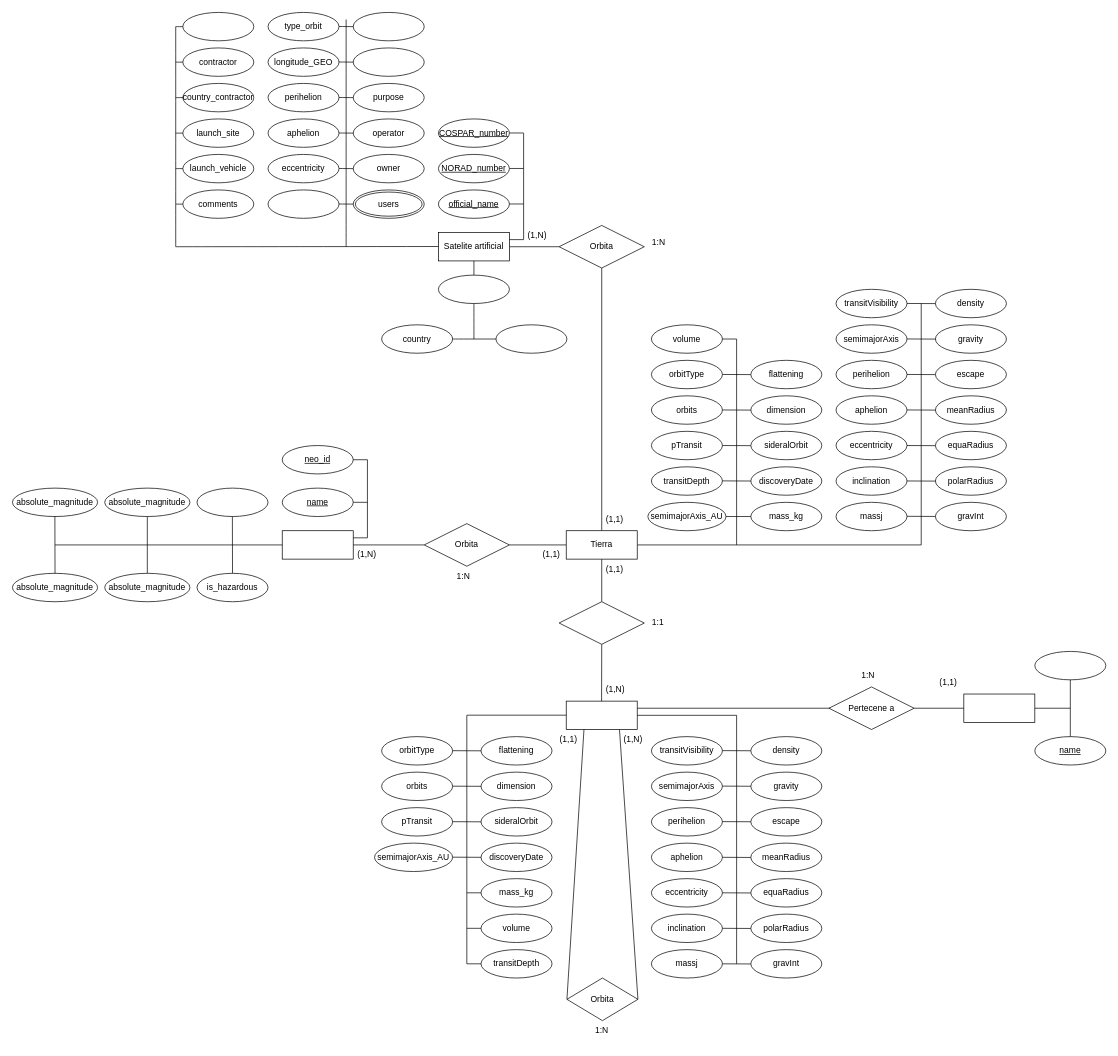
Image size: 1118x1056. Some labels were removed from this diagram. The box of each missing label's shape, as (x1, y1, x2, y2) in pixels:
Cuerpo celeste: (566, 700, 637, 730)
detailed_purpose: (353, 47, 424, 76)
dry_mass: (267, 189, 339, 218)
Es: (558, 601, 644, 644)
miss_distance: (196, 487, 268, 517)
Neo: (282, 530, 353, 559)
orbit: (353, 12, 424, 41)
organization: (495, 324, 567, 353)
power: (182, 12, 254, 41)
register: (438, 274, 509, 304)
Tipo de cuerpo: (963, 693, 1035, 722)
type: (1034, 651, 1106, 680)
